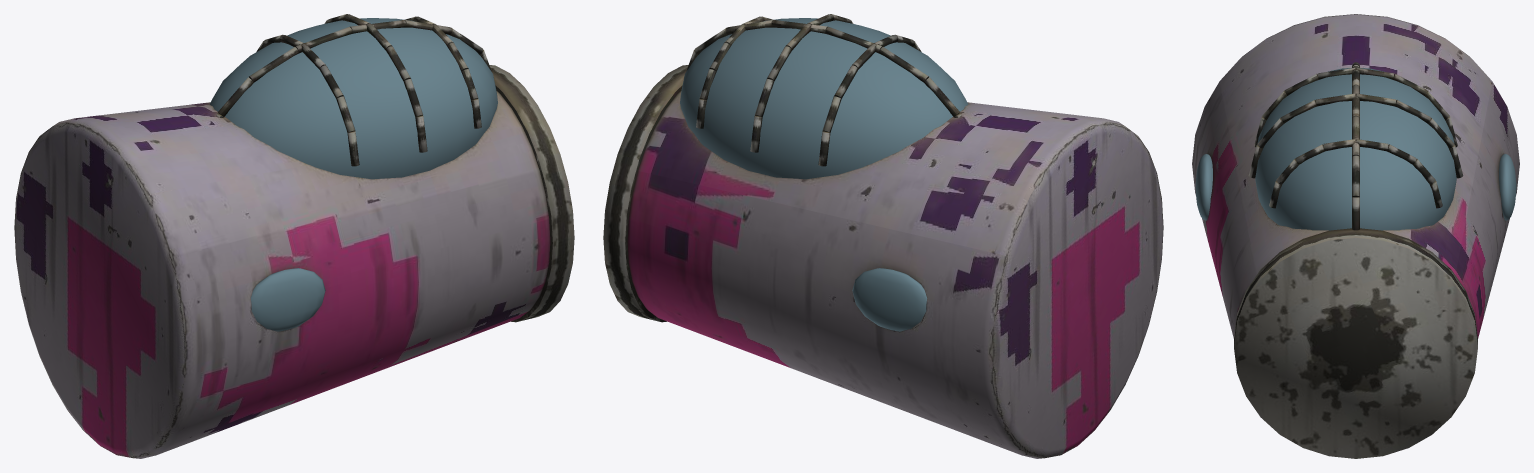
Rendered from turret_kit_tail_cabin_pixel.glb.
3 renders of one model, left to right at view 1: azimuth 30°, elevation 25°; view 2: azimuth 150°, elevation 25°; view 3: azimuth 270°, elevation 25°, orthographic. The views are drawn at different scales.
Parts seen in each view (by area): view 1: turret_tail_cabin; view 2: turret_tail_cabin; view 3: turret_tail_cabin.
Boxes of the visible parts, left/top/right/bottom form: turret_tail_cabin: left=14, top=14, right=574, bottom=458; turret_tail_cabin: left=603, top=14, right=1163, bottom=458; turret_tail_cabin: left=1192, top=14, right=1519, bottom=458.
Size of the model in its own units: 1.14 by 0.9506 by 0.8335.
Materials: 2 (1 with a texture image).
